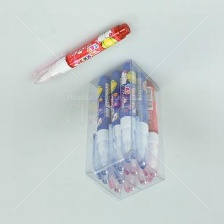correction_fluid: (28, 18, 132, 86), (89, 73, 112, 178), (116, 60, 139, 164), (106, 68, 124, 172), (131, 69, 149, 170), (144, 79, 162, 177)
plastic_box: (81, 57, 166, 203)
